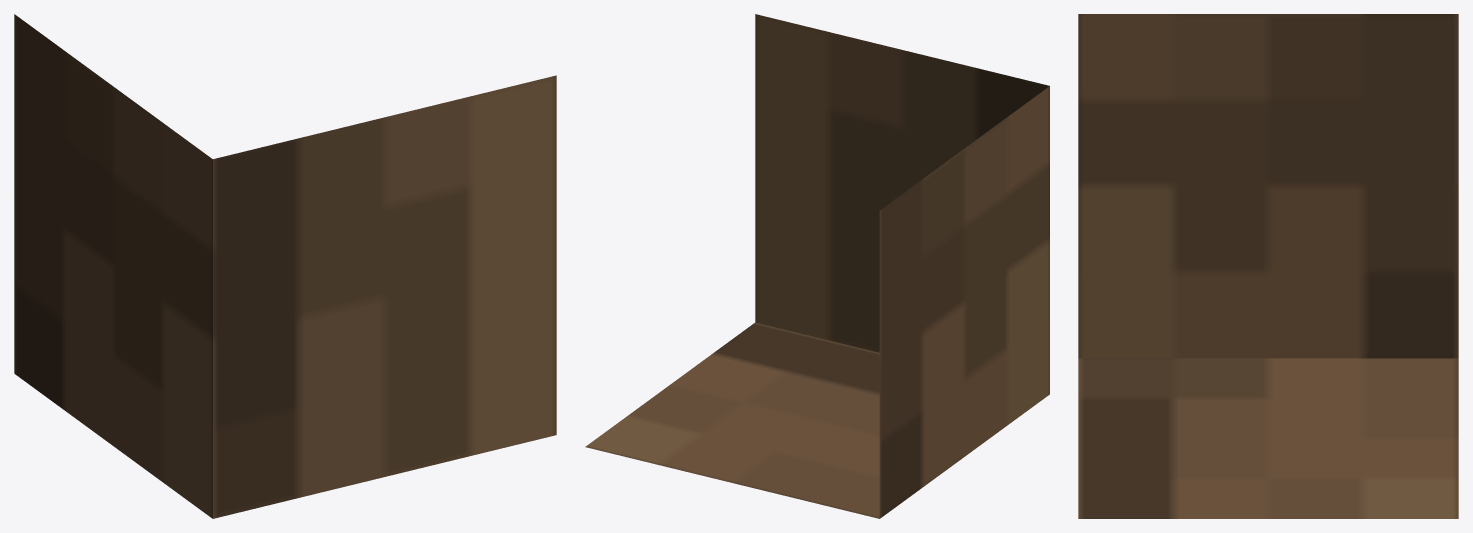
The model's file is house3.glb.
3 views of the same model, side by side, from view 1: azimuth 30°, elevation 25°; view 2: azimuth 150°, elevation 25°; view 3: azimuth 270°, elevation 25° (orthographic). The views are drawn at different scales.
Visible parts, largest first — view 1: Cube.007; view 2: Cube.007; view 3: Cube.007.
Boxes of the visible parts, x1,y1,x2,y2 form: Cube.007: (14,14,556,518); Cube.007: (585,14,1049,518); Cube.007: (1078,14,1458,518).
Bounding box in the file's own units: 1 × 1 × 1.
Materials: 1 (1 with a texture image).
